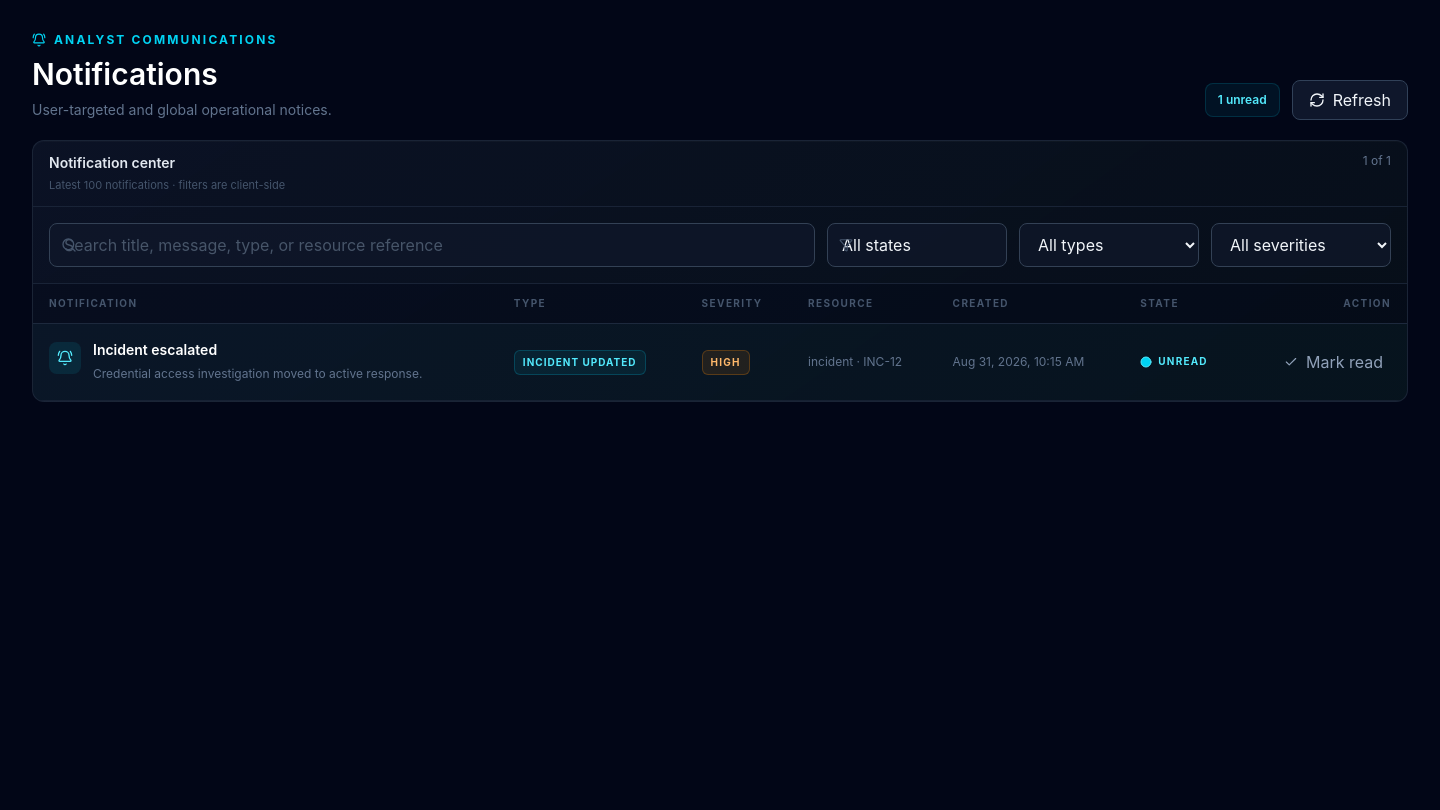
NotificationsPage › opens notification details from the rendered record
The width and height of the screenshot is (1440, 810).
Click the button with aria-label "Open notification 31" at (720,362), box [33, 323, 1407, 400]
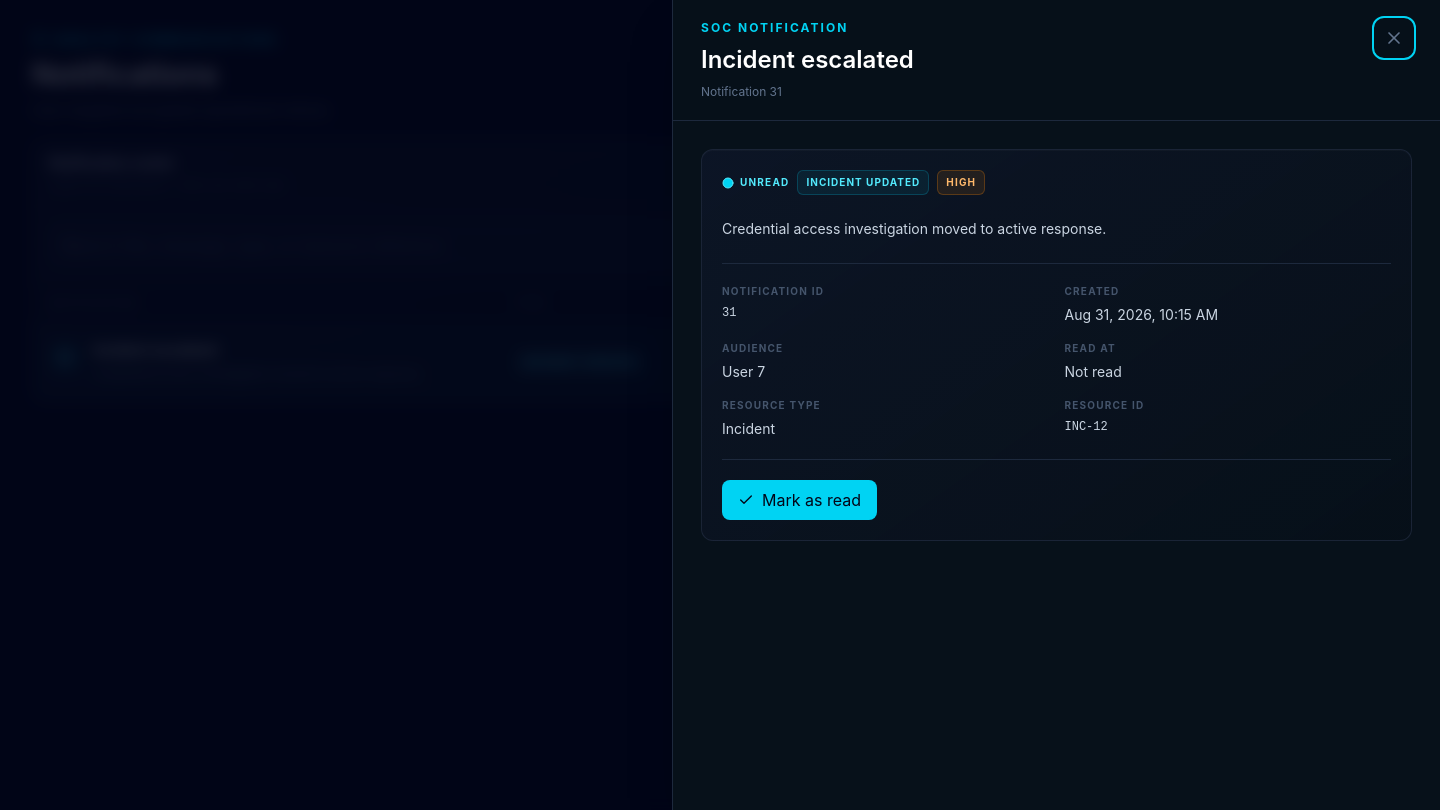
Expected: the dialog "Incident escalated" shows "Credential access investigation", [722, 220, 1106, 237]
Expected: the dialog "Incident escalated" shows "INC-12", [1064, 420, 1108, 434]
